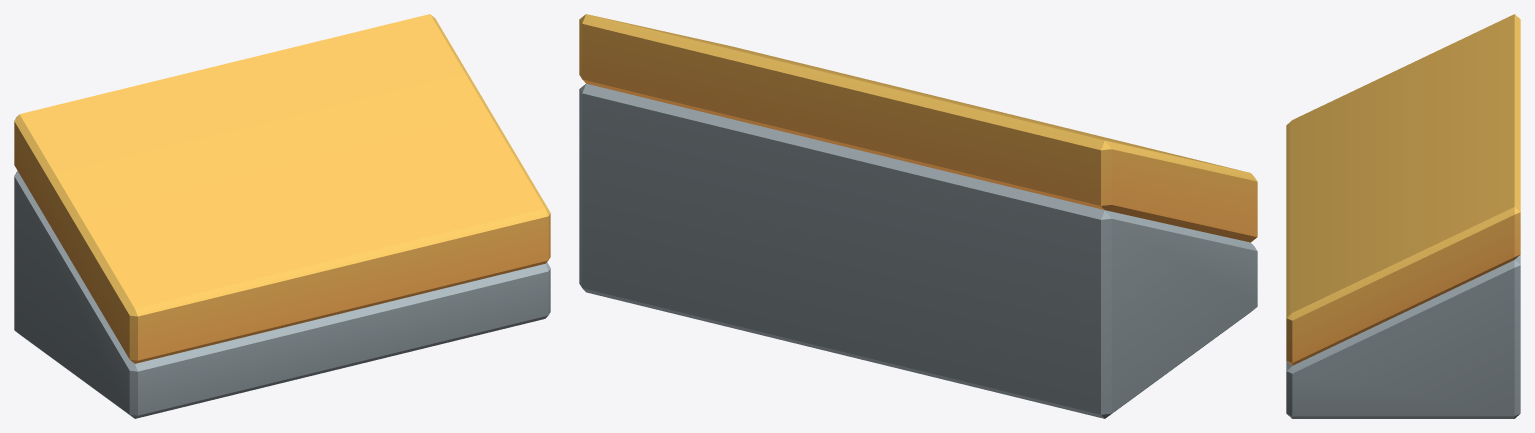
The model's file is platform_slope_4x2x2_yellow.glb.
The picture shows the model from 3 angles, left to right: view 1: azimuth 30°, elevation 25°; view 2: azimuth 150°, elevation 25°; view 3: azimuth 270°, elevation 25°; orthographic projection. The views are drawn at different scales.
Visible parts, largest first — view 1: platform_slope_4x2x2_yellow; view 2: platform_slope_4x2x2_yellow; view 3: platform_slope_4x2x2_yellow.
Boxes of the visible parts, x1,y1,x2,y2 form: platform_slope_4x2x2_yellow: [14, 14, 550, 418]; platform_slope_4x2x2_yellow: [579, 14, 1257, 418]; platform_slope_4x2x2_yellow: [1286, 14, 1520, 418].
Size of the model in its own units: 4 by 2 by 2.
1 material, 1 textured.
